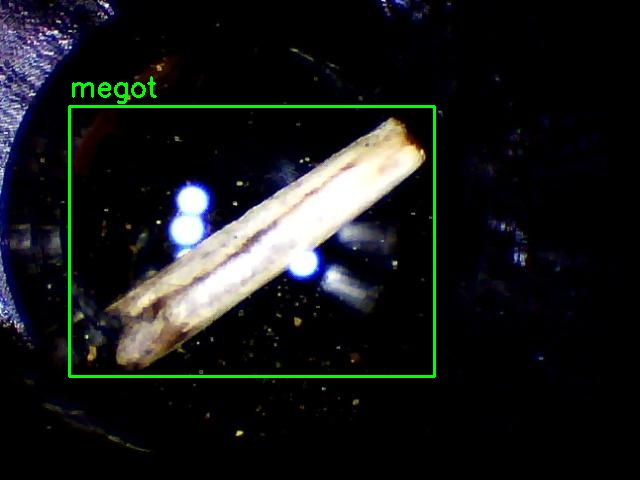megot: (69, 106, 434, 376)
